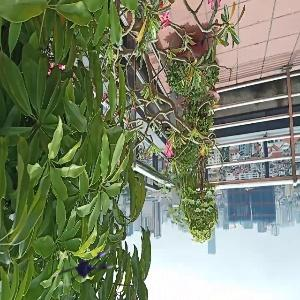drone: (51, 229, 118, 296)
